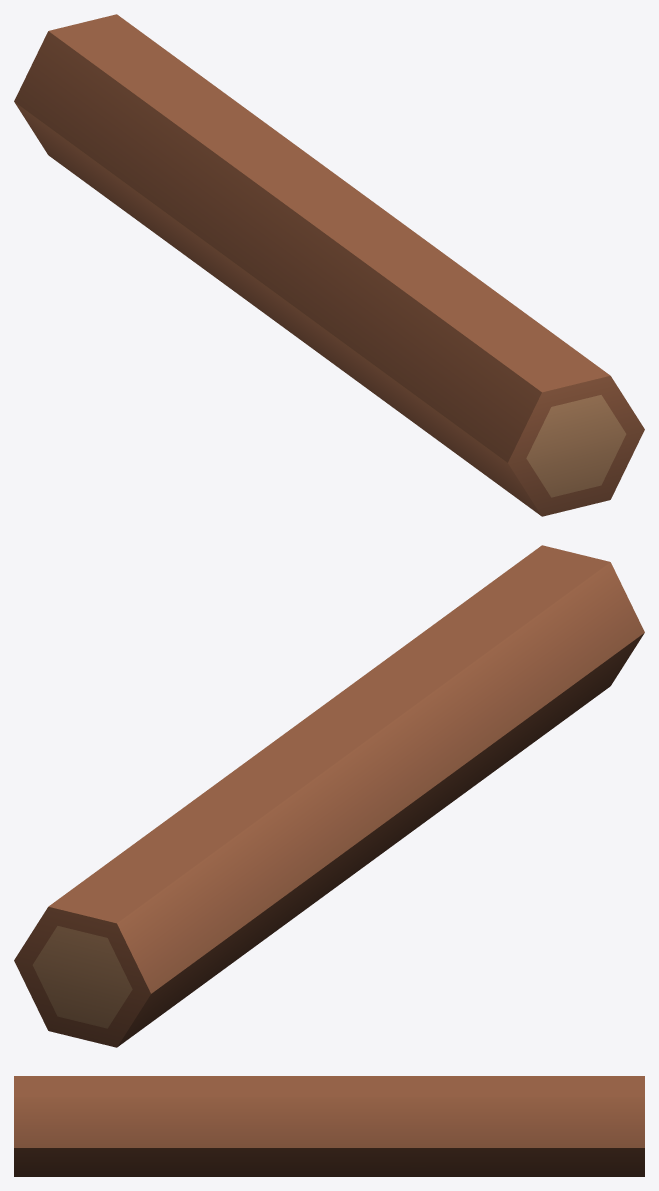
The model's file is wood.fbx.
3 views of the same model, one above another, from view 1: azimuth 30°, elevation 25°; view 2: azimuth 150°, elevation 25°; view 3: azimuth 270°, elevation 25° (orthographic). The views are drawn at different scales.
Visible parts, largest first — view 1: wood; view 2: wood; view 3: wood.
Boxes of the visible parts, x1=… form: wood: x1=14, y1=14, x2=644, y2=516; wood: x1=14, y1=545, x2=644, y2=1047; wood: x1=14, y1=1076, x2=644, y2=1176.
Size of the model in its own units: 69.76 by 60.41 by 435.
1 material, 1 textured.
